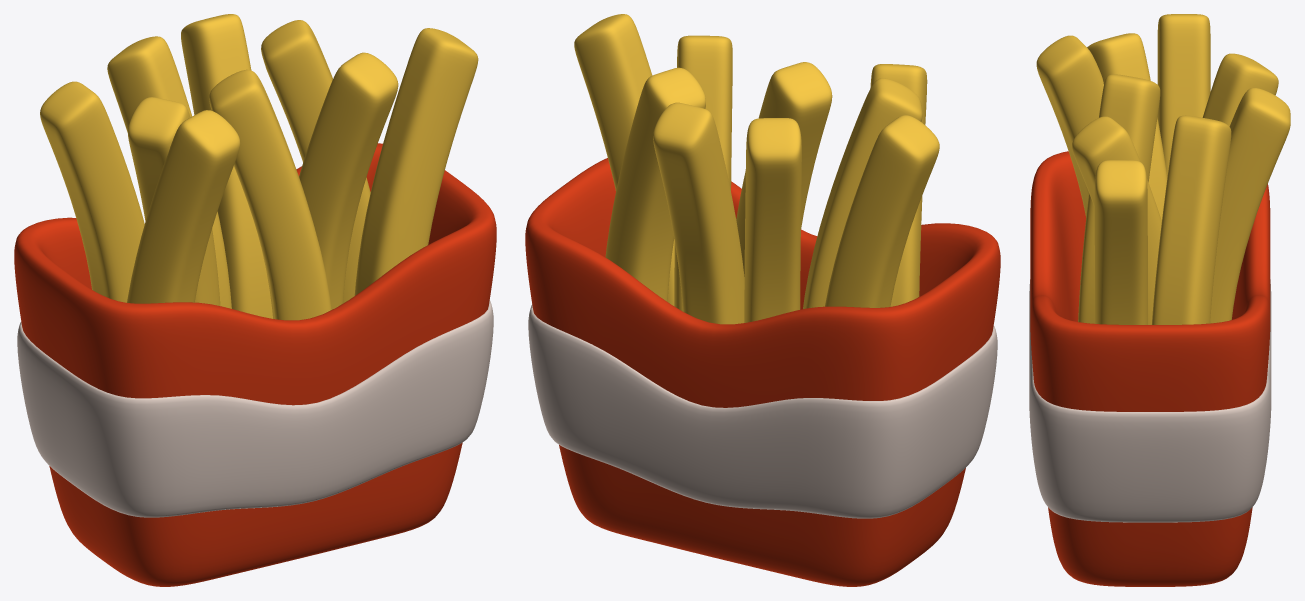
The model's file is FriesPack.fbx.
3 renders of one model, left to right at view 1: azimuth 30°, elevation 25°; view 2: azimuth 150°, elevation 25°; view 3: azimuth 270°, elevation 25°, orthographic. The views are drawn at different scales.
Visible parts, largest first — view 1: FriesCarton_Base, FriesCarton_Label, FriesSingle_05, FriesSingle_07, FriesSingle_01, FriesSingle_02, FriesSingle_06, FriesSingle_08, FriesSingle_04, FriesSingle_03, FriesSingle_09; view 2: FriesCarton_Base, FriesCarton_Label, FriesSingle_08, FriesSingle_01, FriesSingle_03, FriesSingle_04, FriesSingle_05, FriesSingle_09, FriesSingle_07, FriesSingle_06, FriesSingle_02; view 3: FriesCarton_Base, FriesCarton_Label, FriesSingle_04, FriesSingle_08, FriesSingle_05, FriesSingle_01, FriesSingle_02, FriesSingle_07, FriesSingle_06, FriesSingle_09, FriesSingle_03.
Boxes of the visible parts, left/top/right/bottom form: FriesCarton_Base: left=14, top=143, right=496, bottom=586; FriesCarton_Label: left=17, top=300, right=493, bottom=517; FriesSingle_05: left=354, top=28, right=478, bottom=295; FriesSingle_07: left=209, top=69, right=331, bottom=320; FriesSingle_01: left=40, top=81, right=144, bottom=302; FriesSingle_02: left=127, top=110, right=240, bottom=303; FriesSingle_06: left=299, top=52, right=398, bottom=309; FriesSingle_08: left=181, top=14, right=272, bottom=318; FriesSingle_04: left=261, top=20, right=370, bottom=303; FriesSingle_03: left=107, top=36, right=231, bottom=308; FriesSingle_09: left=128, top=97, right=220, bottom=305; FriesCarton_Base: left=525, top=158, right=1000, bottom=586; FriesCarton_Label: left=528, top=304, right=997, bottom=518; FriesSingle_08: left=653, top=102, right=744, bottom=324; FriesSingle_01: left=825, top=115, right=939, bottom=307; FriesSingle_03: left=744, top=118, right=801, bottom=322; FriesSingle_04: left=605, top=67, right=705, bottom=301; FriesSingle_05: left=574, top=14, right=674, bottom=305; FriesSingle_09: left=803, top=78, right=922, bottom=308; FriesSingle_07: left=736, top=62, right=832, bottom=276; FriesSingle_06: left=674, top=35, right=732, bottom=311; FriesSingle_02: left=870, top=64, right=927, bottom=306; FriesCarton_Base: left=1030, top=151, right=1270, bottom=586; FriesCarton_Label: left=1029, top=279, right=1271, bottom=522; FriesSingle_04: left=1151, top=115, right=1231, bottom=324; FriesSingle_08: left=1210, top=87, right=1290, bottom=323; FriesSingle_05: left=1094, top=160, right=1147, bottom=324; FriesSingle_01: left=1157, top=14, right=1210, bottom=176; FriesSingle_02: left=1036, top=35, right=1103, bottom=217; FriesSingle_07: left=1078, top=74, right=1160, bottom=323; FriesSingle_06: left=1072, top=116, right=1161, bottom=324; FriesSingle_09: left=1087, top=33, right=1167, bottom=220; FriesSingle_03: left=1202, top=53, right=1278, bottom=126.
Bounding box in the file's own units: 159 × 173 × 94.34.
